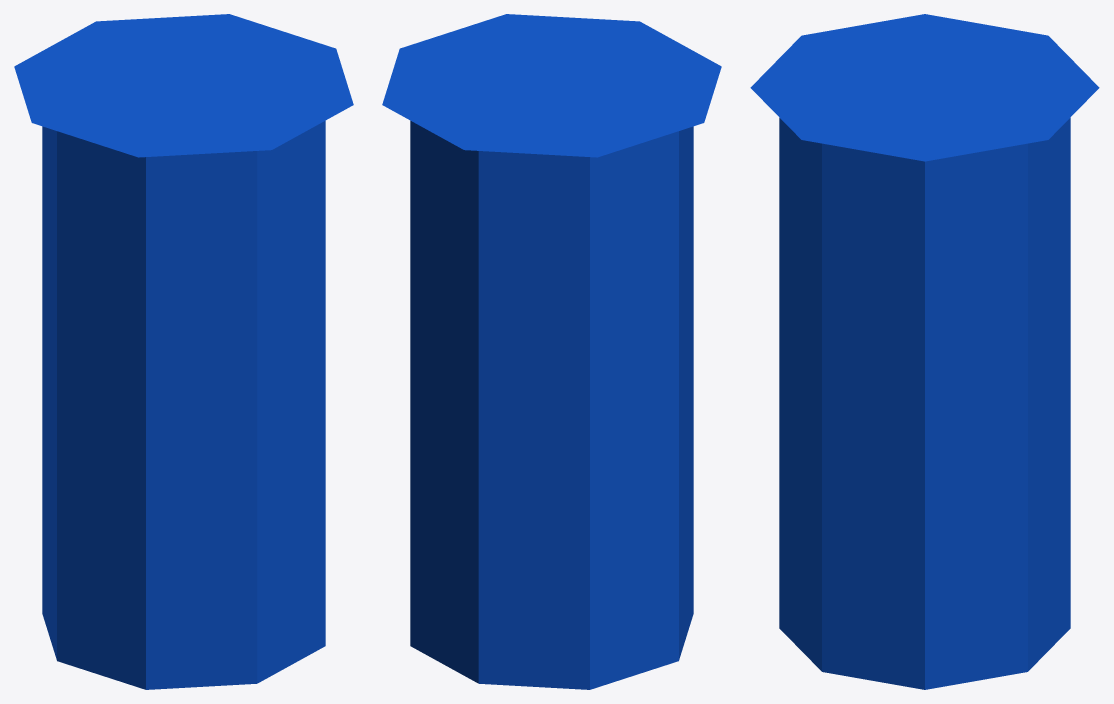
The model's file is cup.dae.
The picture shows the model from 3 angles, left to right: view 1: azimuth 30°, elevation 25°; view 2: azimuth 150°, elevation 25°; view 3: azimuth 270°, elevation 25°; orthographic projection.
Parts seen in each view (by area): view 1: cup; view 2: cup; view 3: cup.
Part boxes in pixels (box(x1,y1,x2,y2)): cup: box(14, 14, 353, 689); cup: box(382, 14, 721, 689); cup: box(750, 14, 1099, 689).
Size of the model in its own units: 0.12 by 0.12 by 0.205.
